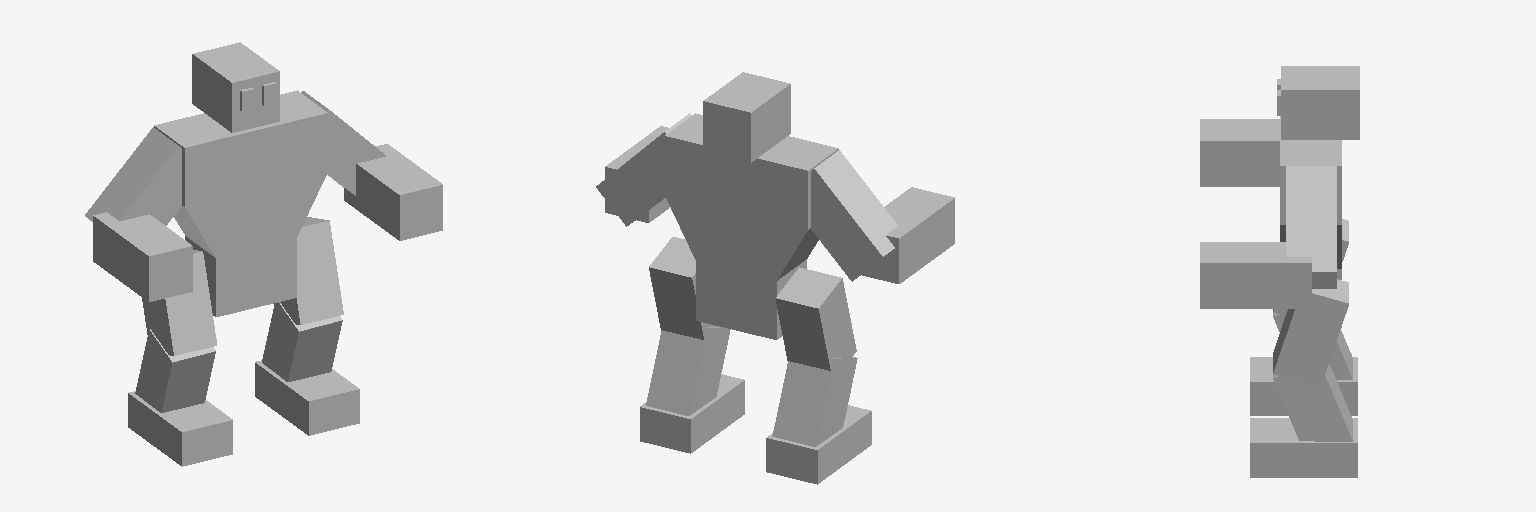
Rendered from PlayerPlaceHolder.obj.
3 views of the same model, side by side, from view 1: azimuth 30°, elevation 25°; view 2: azimuth 150°, elevation 25°; view 3: azimuth 270°, elevation 25° (orthographic).
Parts seen in each view (by area): view 1: pCube55, pCube77, pCube75, pCube78, pCube76, pCube73, pCube70, pCube68, pCube71, pCube69, pCube72, pCube74; view 2: pCube55, pCube76, pCube78, pCube72, pCube71, pCube69, pCube77, pCube73, pCube70, pCube68, pCube74, pCube75; view 3: pCube75, pCube78, pCube74, pCube77, pCube70, pCube68, pCube69, pCube55, pCube73, pCube71.
Part boxes in pixels (x1,y1,x2,y2): pCube55: (154, 90, 327, 316); pCube77: (93, 212, 192, 301); pCube75: (344, 144, 442, 240); pCube78: (192, 42, 279, 132); pCube76: (85, 127, 181, 225); pCube73: (128, 391, 232, 466); pCube70: (255, 360, 359, 435); pCube68: (274, 217, 343, 324); pCube71: (135, 329, 215, 412); pCube69: (262, 302, 342, 381); pCube72: (142, 250, 216, 355); pCube74: (301, 91, 385, 195); pCube55: (665, 113, 838, 339); pCube76: (811, 150, 897, 281); pCube78: (703, 72, 790, 162); pCube72: (775, 267, 856, 370); pCube71: (772, 357, 857, 446); pCube69: (646, 327, 730, 415); pCube77: (862, 187, 954, 283); pCube73: (766, 405, 871, 484); pCube70: (640, 374, 744, 453); pCube68: (649, 237, 719, 339); pCube74: (596, 113, 690, 226); pCube75: (605, 126, 669, 222); pCube75: (1200, 242, 1311, 308); pCube78: (1281, 66, 1359, 139); pCube74: (1286, 166, 1336, 288); pCube77: (1200, 119, 1279, 186); pCube70: (1250, 418, 1357, 477); pCube68: (1273, 279, 1348, 386); pCube69: (1273, 364, 1352, 441); pCube55: (1280, 116, 1341, 327); pCube73: (1250, 357, 1357, 415); pCube71: (1273, 312, 1352, 379).
Size of the model in its own units: 1.68 by 1.94 by 0.7947.